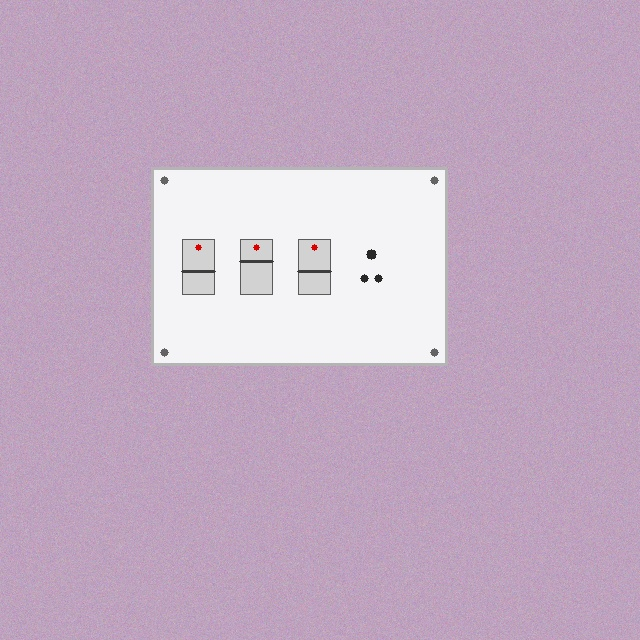switchboard: (152, 168, 446, 364)
